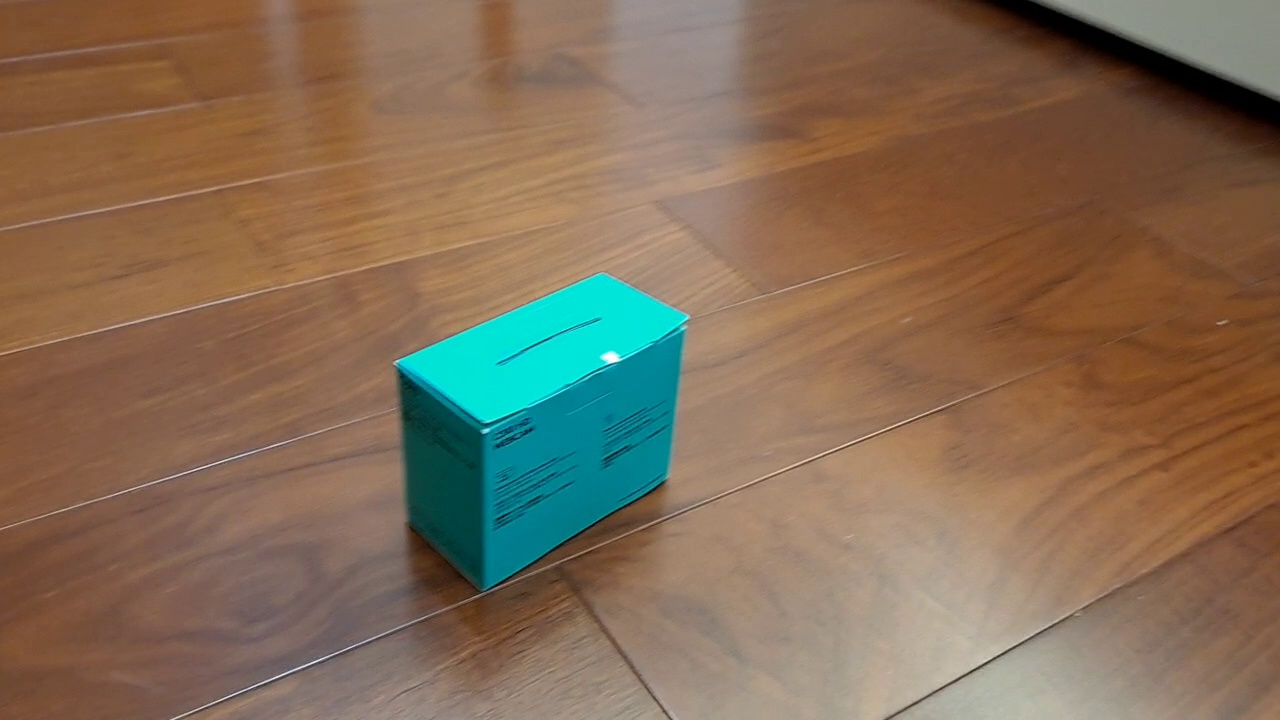webcam: (391, 270, 693, 594)
